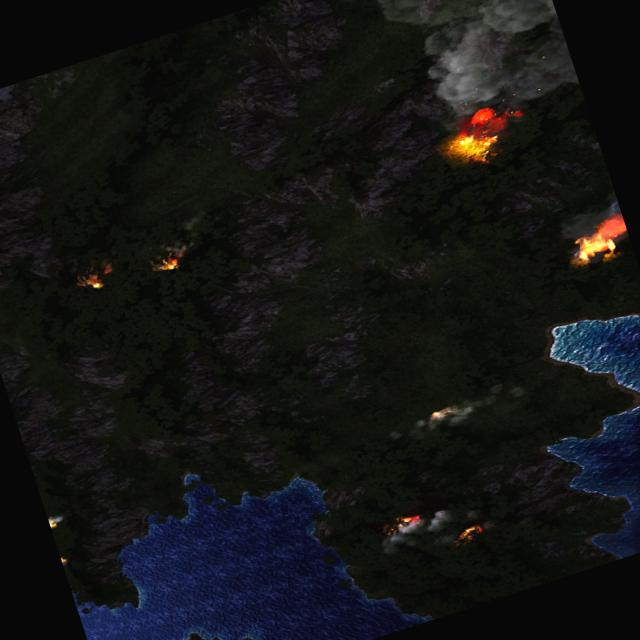fire: (428, 100, 526, 176), (564, 218, 628, 267), (78, 266, 110, 292), (451, 523, 484, 545), (151, 252, 182, 274), (398, 510, 422, 524), (432, 405, 454, 419), (48, 517, 58, 528), (60, 553, 68, 562)
smoke: (369, 0, 583, 149), (382, 373, 530, 444), (538, 138, 628, 250), (375, 506, 458, 558), (47, 510, 68, 528)
